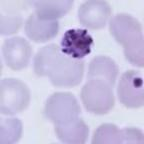Infected: (61, 27, 93, 59)
Uninfected: (49, 52, 86, 88), (44, 90, 81, 124), (80, 79, 114, 114), (0, 77, 31, 115), (116, 70, 144, 109), (25, 11, 59, 43), (54, 114, 89, 144), (111, 14, 144, 45), (78, 0, 111, 29), (5, 35, 33, 69), (34, 43, 61, 77), (88, 55, 119, 84), (92, 123, 123, 144), (124, 37, 144, 66)
